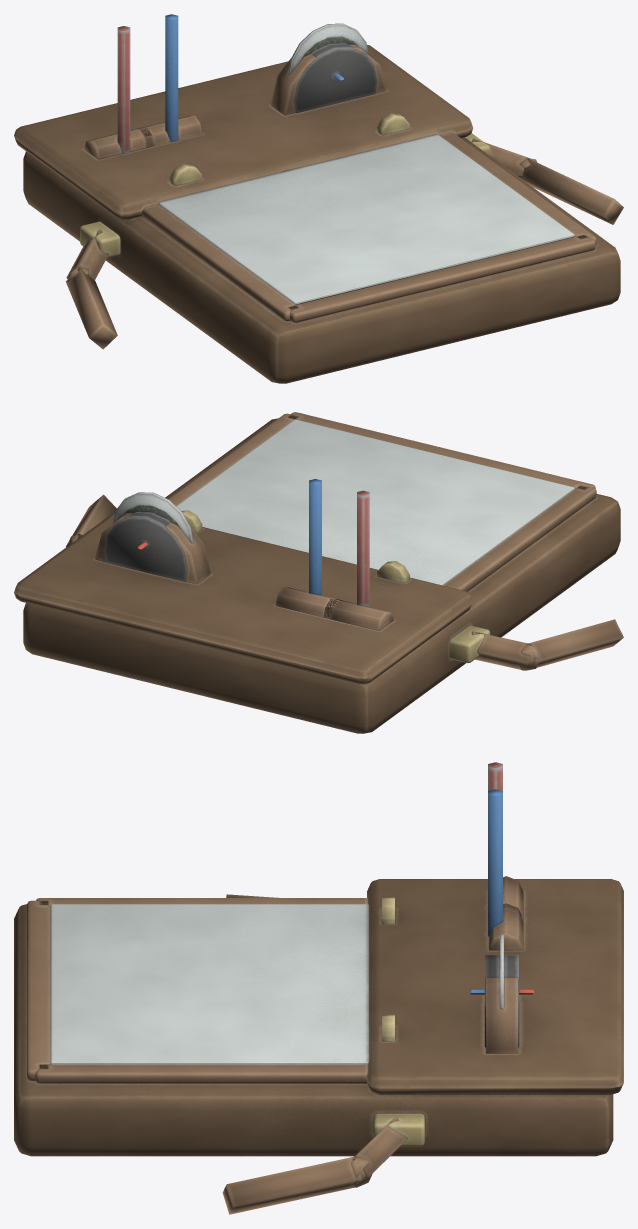
File: officer_tablet.glb
3 views of the same model, one above another, from view 1: azimuth 30°, elevation 25°; view 2: azimuth 150°, elevation 25°; view 3: azimuth 270°, elevation 25° (orthographic). The views are drawn at different scales.
Visible parts, largest first — view 1: officer_tablet; view 2: officer_tablet; view 3: officer_tablet.
Part boxes in pixels (x1=…): officer_tablet: x1=14, y1=14, x2=623, y2=383; officer_tablet: x1=14, y1=412, x2=623, y2=733; officer_tablet: x1=14, y1=762, x2=623, y2=1214.
Size of the model in its own units: 0.3352 by 0.14 by 0.285.
Materials: 1 (1 with a texture image).
